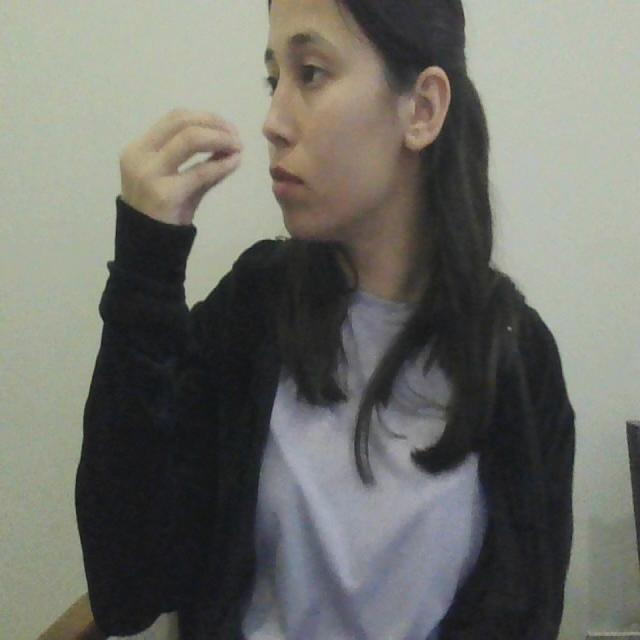Yemek: (112, 101, 300, 200)
